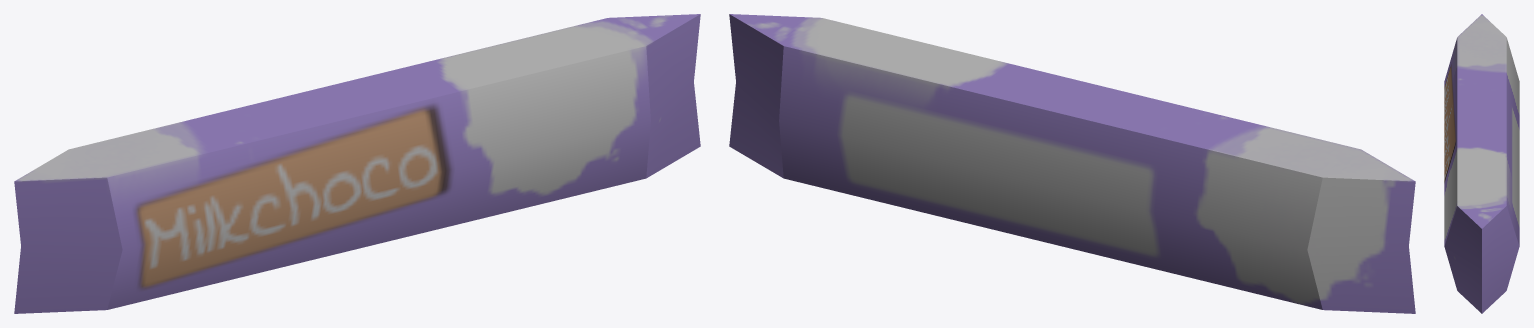
The model's file is Chocolate_04.fbx.
The picture shows the model from 3 angles, left to right: view 1: azimuth 30°, elevation 25°; view 2: azimuth 150°, elevation 25°; view 3: azimuth 270°, elevation 25°; orthographic projection. The views are drawn at different scales.
Visible parts, largest first — view 1: Chocolate_04; view 2: Chocolate_04; view 3: Chocolate_04.
Part boxes in pixels (x1,y1,x2,y2): Chocolate_04: (14,14,700,313); Chocolate_04: (729,14,1415,313); Chocolate_04: (1444,14,1519,313).
Bounding box in the file's own units: 27.61 × 5.09 × 4.08.
